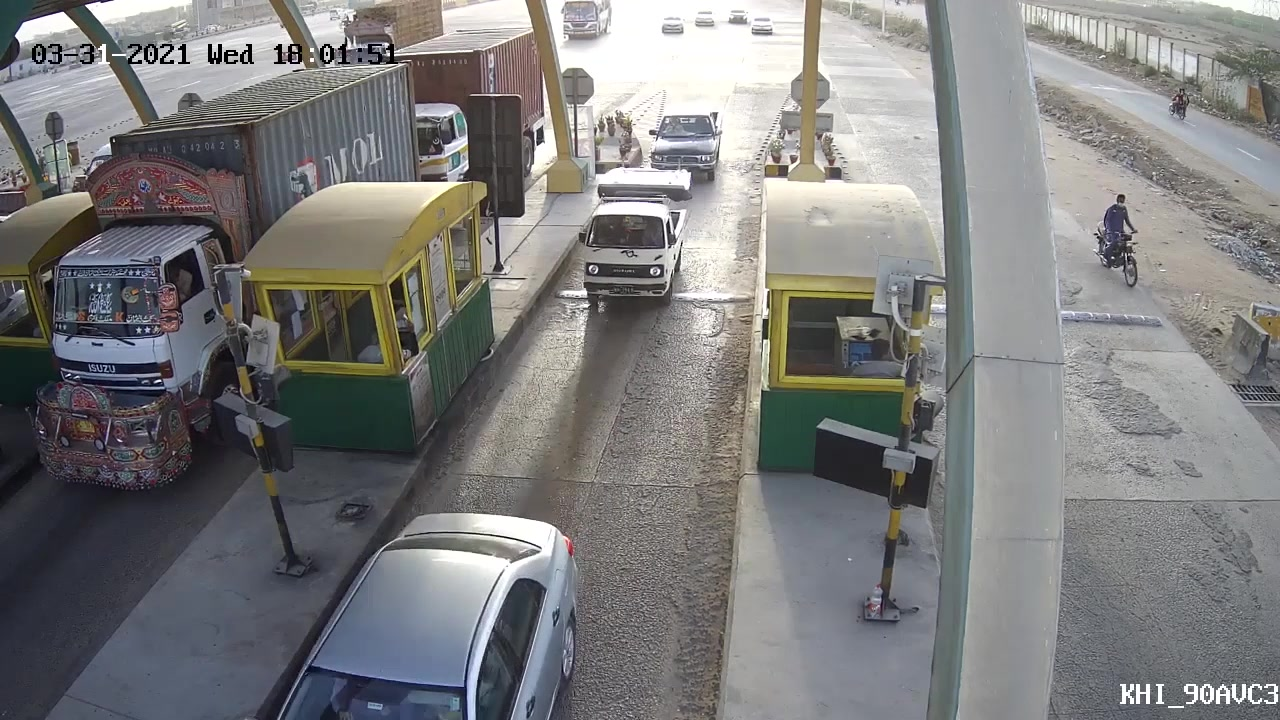F1: (566, 161, 697, 315)
